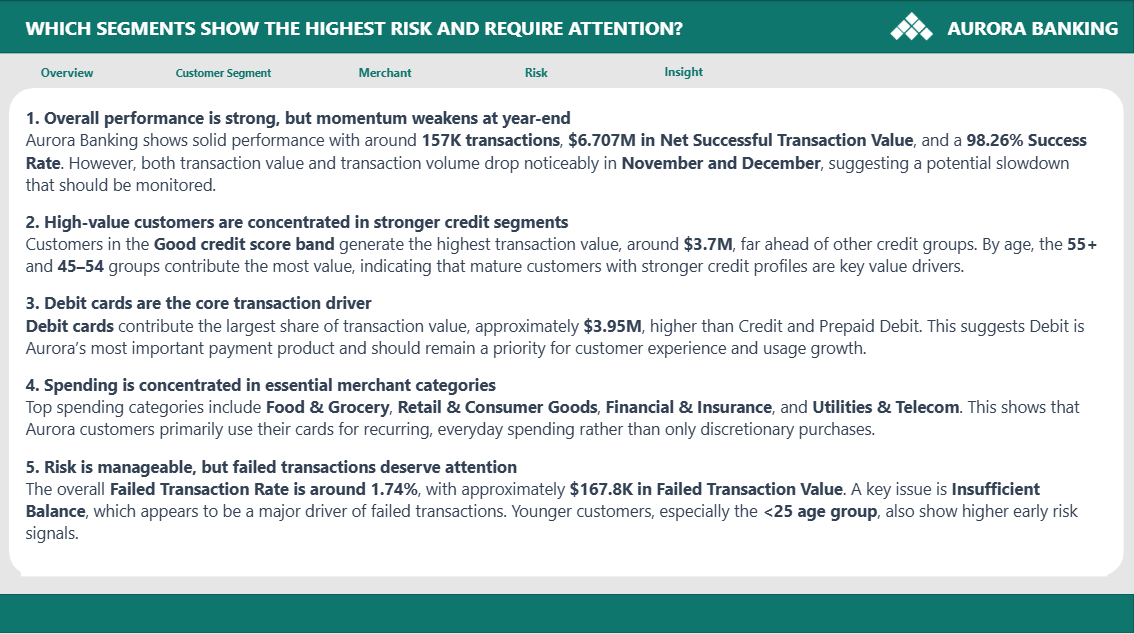

The dashboard page shown, as its layout file describes it:
{"tool":"powerbi","page":{"name":"INSIGHTS","canvas":[1280,720],"ordinal":4},"visuals":[{"type":"actionButton","title":"btn_campaign","box":[171.8,64.6,163.5,34.6],"z":0,"group":"g2"},{"type":"actionButton","title":"btn_overview","box":[11.3,64.6,130.8,35],"z":1000,"group":"g2"},{"type":"actionButton","title":"btn_insight","box":[706.8,63,130,35],"z":1500,"group":"g2"},{"type":"actionButton","title":"btn_customer","box":[534.6,64.6,142.6,34.6],"z":2000,"group":"g2"},{"type":"actionButton","title":"btn_product ","box":[364.9,64.6,139.9,34.6],"z":3000,"group":"g2"},{"type":"shape","box":[0,0,1280,60],"z":7000},{"type":"shape","box":[0,670.2,1280,43.8],"z":8000},{"type":"textbox","box":[1064.6,11.7,215,46.7],"z":11000,"group":"g1"},{"type":"image","box":[994,0,72.7,60.3],"z":21007,"group":"g1"},{"type":"group","id":"g1","title":"Group 2","box":[994,0,286,60.3],"z":24000},{"type":"textbox","box":[24.3,11.7,785.9,46.7],"z":30000},{"type":"group","id":"g2","title":"Group 1","box":[11.3,63,825.5,36.6],"z":30001},{"type":"shape","box":[11.3,99.2,1257.4,550.3],"z":30002},{"type":"textbox","box":[24.8,115,1224.7,534.6],"z":30003}]}

Visuals, with their boxes in screenshot pixels (x1, y1, x2, y2), scaled from the page's 1280x720 canvas onto the 1134x634 screenshot:
"btn_campaign" actionButton: select_region(152, 57, 297, 87)
"btn_overview" actionButton: select_region(10, 57, 126, 88)
"btn_insight" actionButton: select_region(626, 55, 741, 86)
"btn_customer" actionButton: select_region(474, 57, 600, 87)
"btn_product " actionButton: select_region(323, 57, 447, 87)
shape: select_region(0, 0, 1133, 53)
shape: select_region(0, 590, 1133, 629)
textbox: select_region(943, 10, 1133, 51)
image: select_region(881, 0, 945, 53)
"Group 2" group: select_region(881, 0, 1133, 53)
textbox: select_region(22, 10, 718, 51)
"Group 1" group: select_region(10, 55, 741, 88)
shape: select_region(10, 87, 1124, 572)
textbox: select_region(22, 101, 1107, 572)
